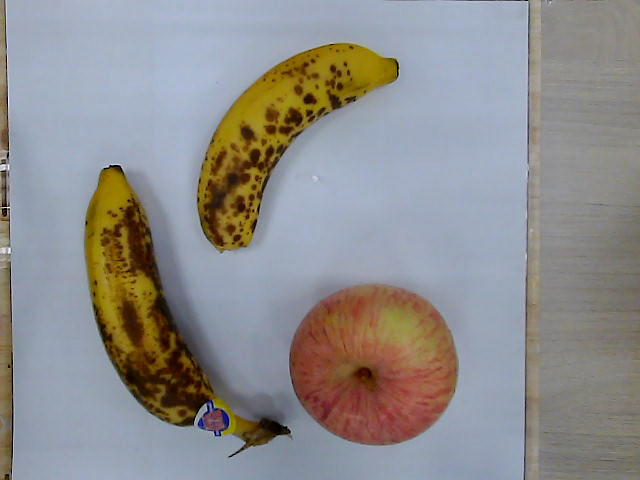fresh_apple: (290, 283, 459, 445)
rotten_banana: (85, 165, 289, 450), (197, 44, 400, 251)
